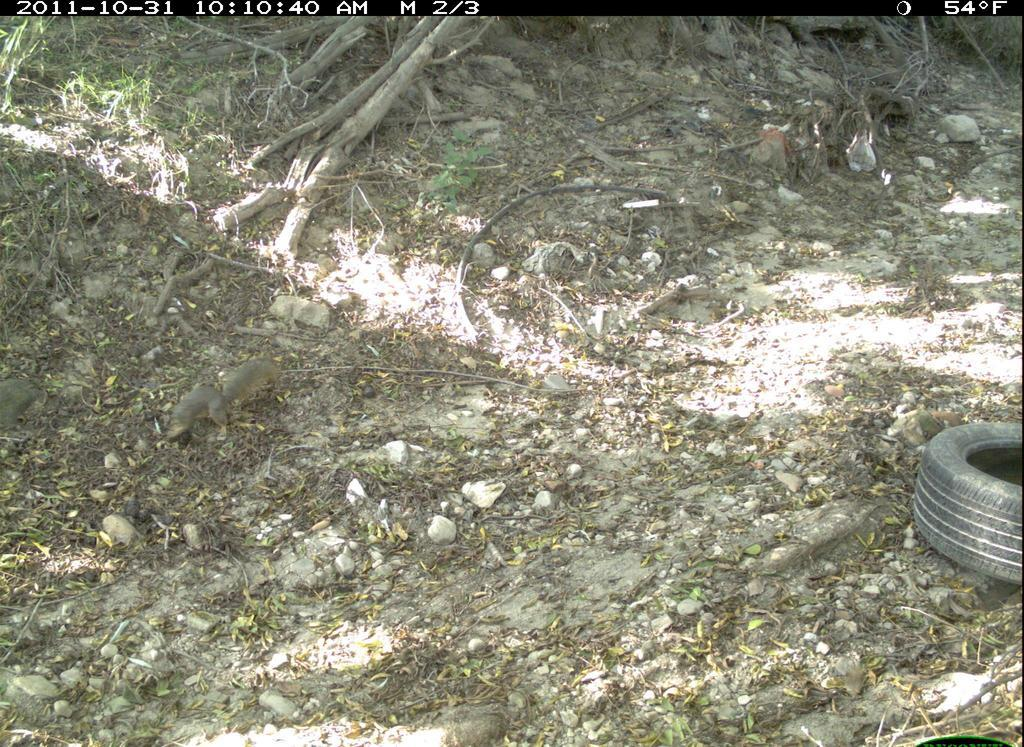squirrel: (148, 350, 292, 445)
